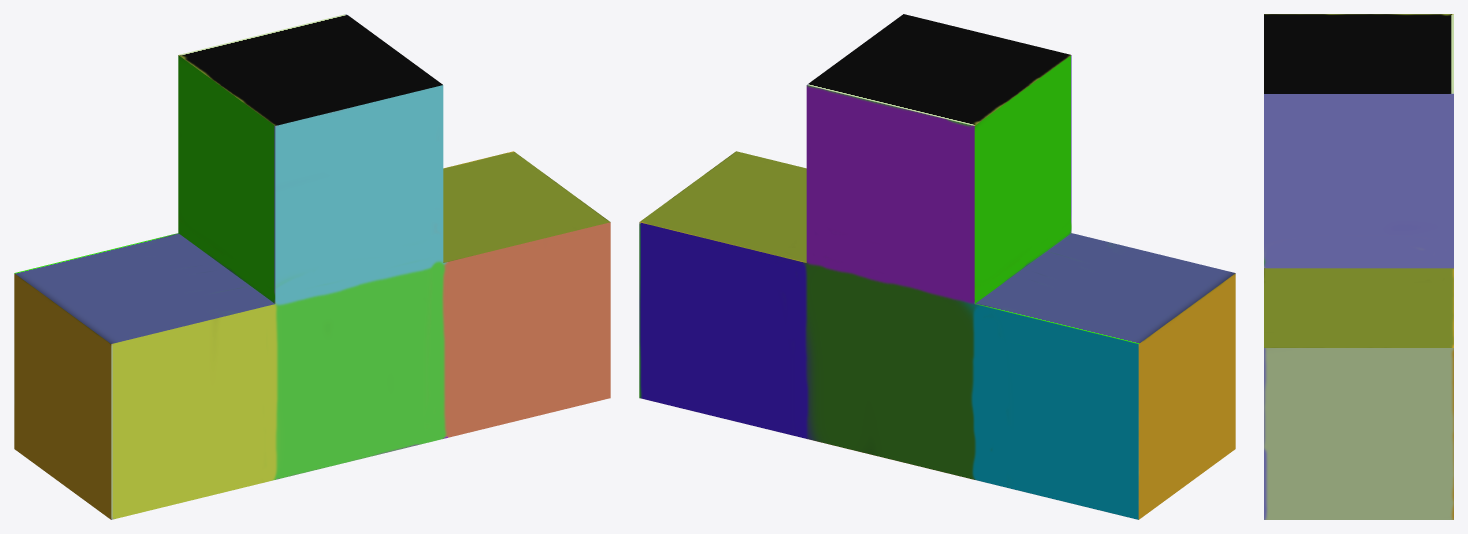
The picture shows the model from 3 angles, left to right: view 1: azimuth 30°, elevation 25°; view 2: azimuth 150°, elevation 25°; view 3: azimuth 270°, elevation 25°; orthographic projection. The views are drawn at different scales.
Parts seen in each view (by area): view 1: 立方体; view 2: 立方体; view 3: 立方体.
Part boxes in pixels (left/top/right/bottom): 立方体: left=14, top=14, right=610, bottom=519; 立方体: left=639, top=14, right=1235, bottom=519; 立方体: left=1264, top=14, right=1453, bottom=519.
Bounding box in the file's own units: 595 × 403 × 200.
1 material, 1 textured.
